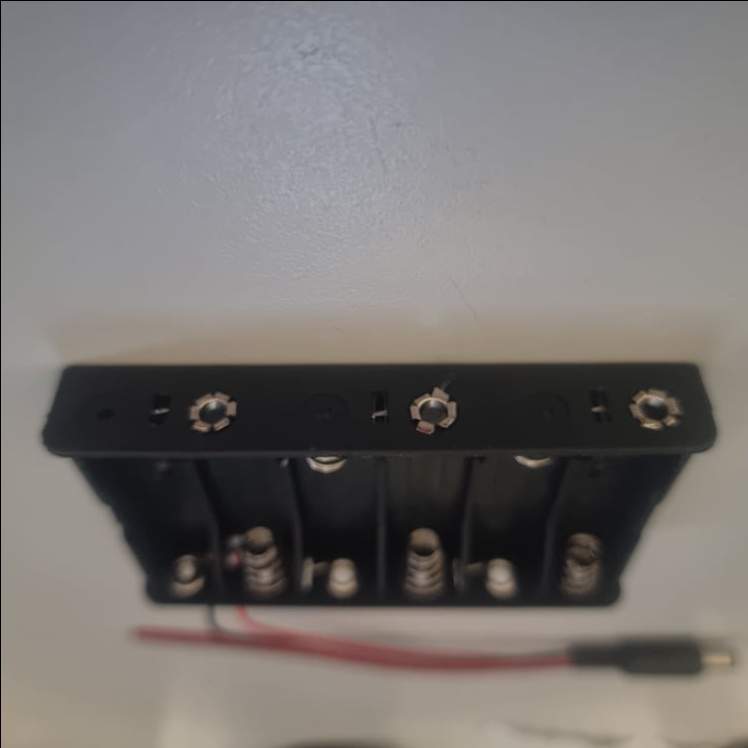BATTERY BOX: (40, 358, 710, 618)
